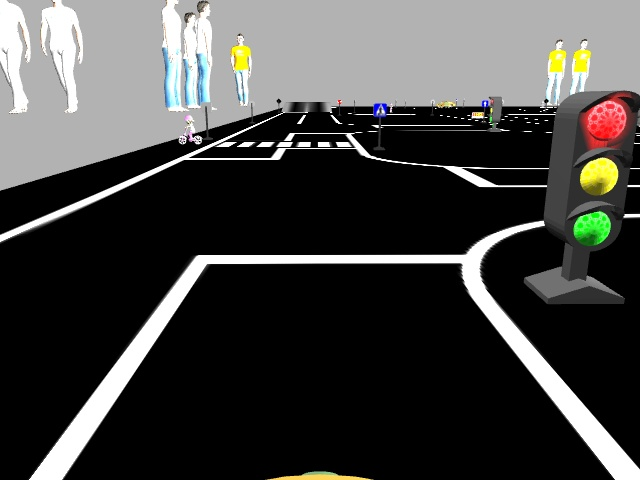Crosswalk: (373, 103, 386, 116)
Pedestrian: (178, 115, 201, 142)
TrafficLight: (546, 92, 636, 246)
